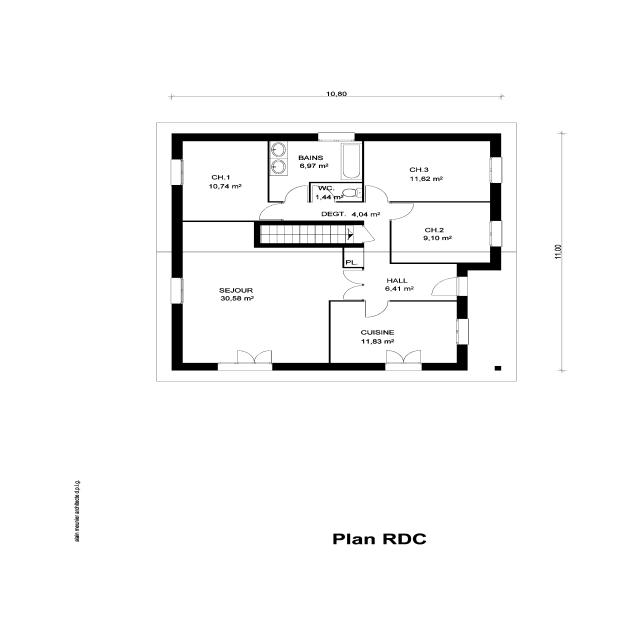door: (428, 274, 466, 298), (339, 267, 366, 297), (377, 348, 427, 364), (229, 348, 277, 364), (280, 184, 310, 204), (364, 299, 391, 318), (388, 202, 416, 220), (256, 202, 284, 220), (363, 184, 390, 202)
window: (213, 362, 277, 372), (486, 154, 503, 186), (170, 275, 187, 307), (487, 218, 503, 250), (312, 131, 358, 142), (170, 157, 186, 188), (453, 317, 469, 347), (380, 361, 426, 371)
zone: (178, 242, 342, 362), (328, 302, 462, 366), (362, 140, 493, 202), (180, 139, 268, 221), (390, 202, 495, 264), (269, 140, 364, 180), (256, 224, 363, 246), (310, 182, 364, 201)
